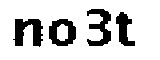3: (84, 5, 112, 48)
n: (13, 14, 43, 51)
o: (47, 17, 77, 49)
t: (116, 11, 143, 50)
